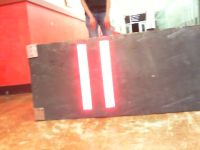switch: (98, 40, 116, 108), (76, 44, 93, 111)
